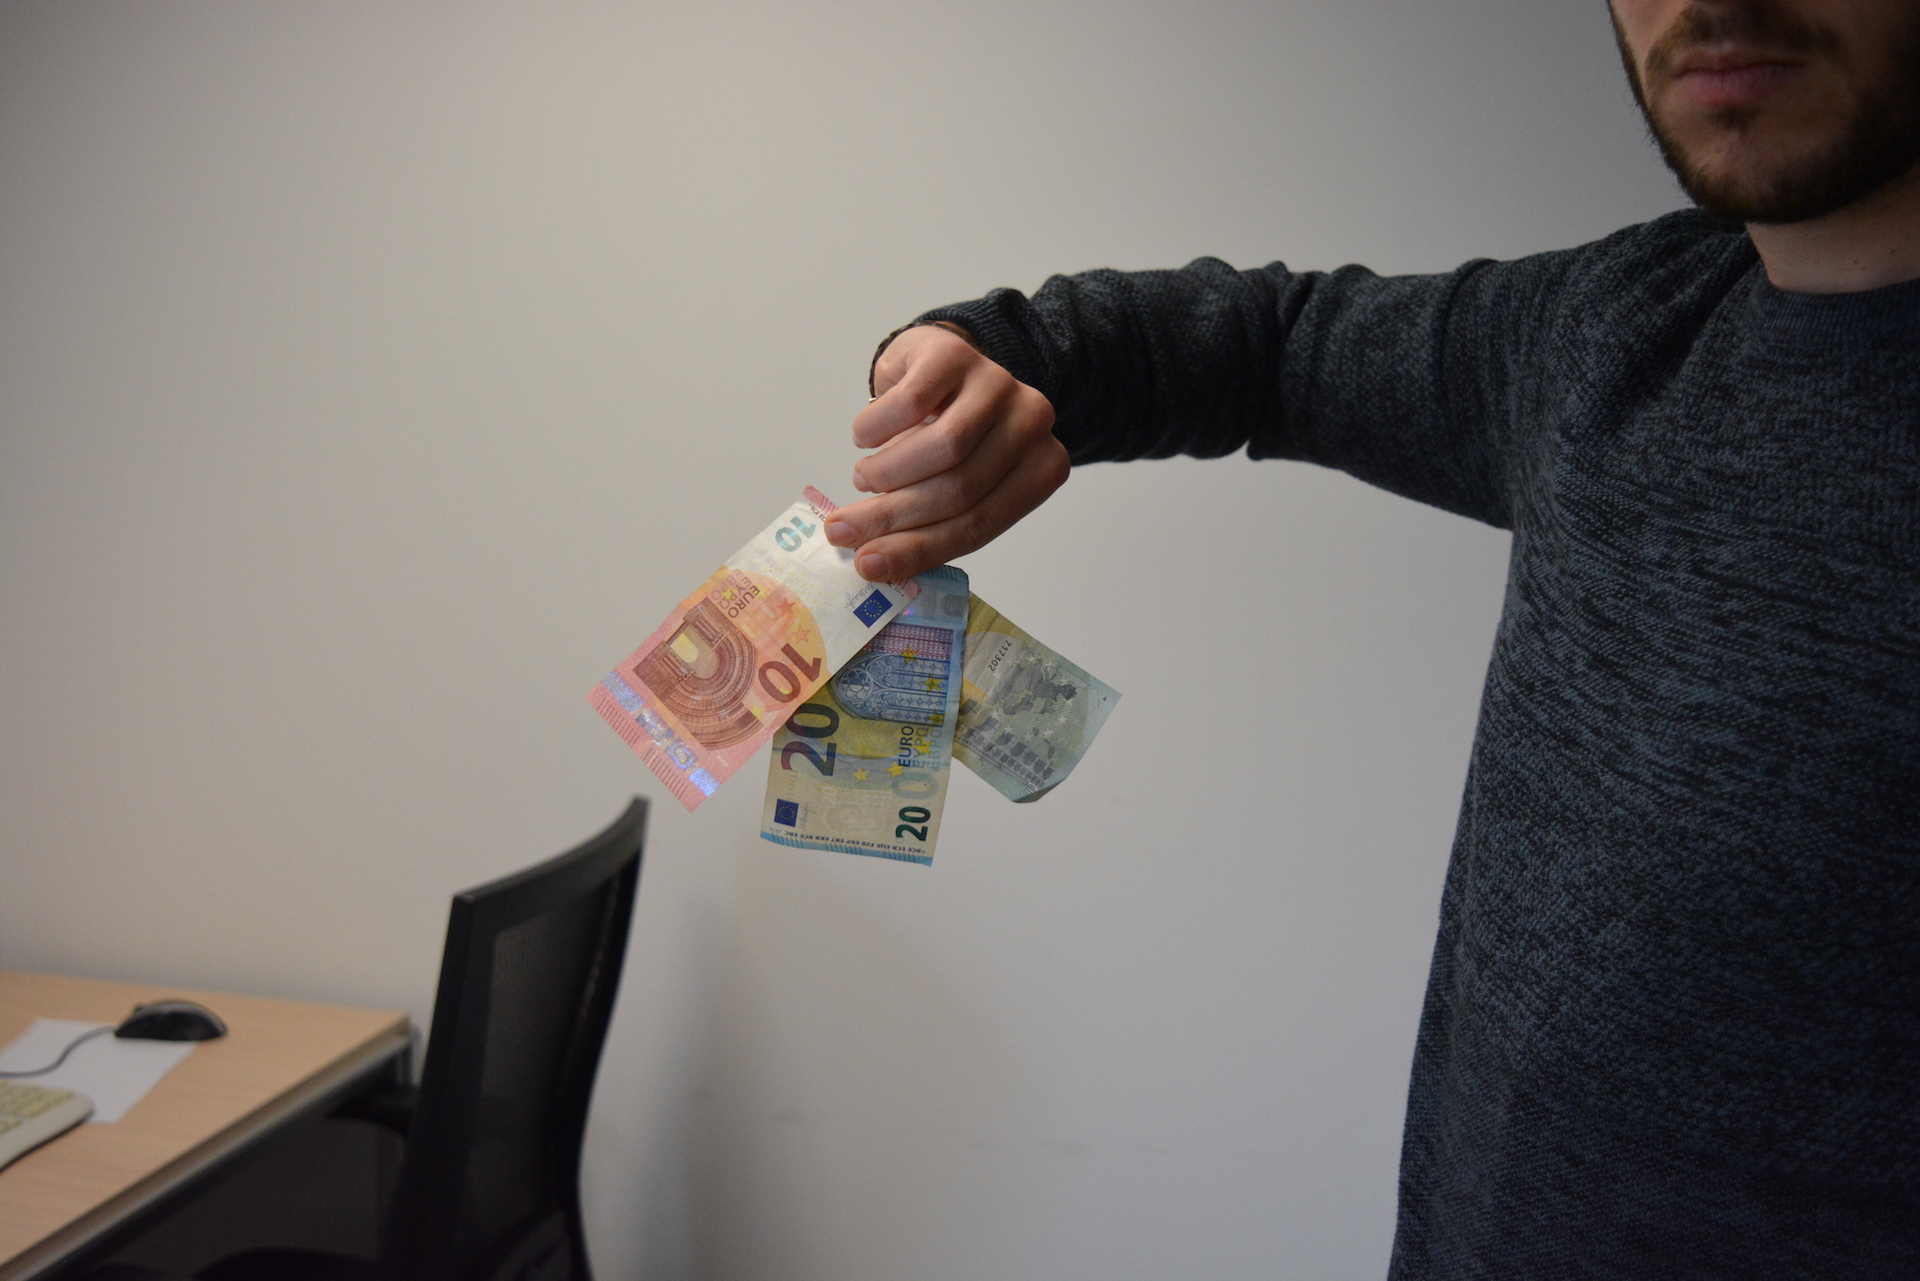billete: (583, 483, 924, 815), (758, 558, 969, 868), (951, 588, 1125, 803)
